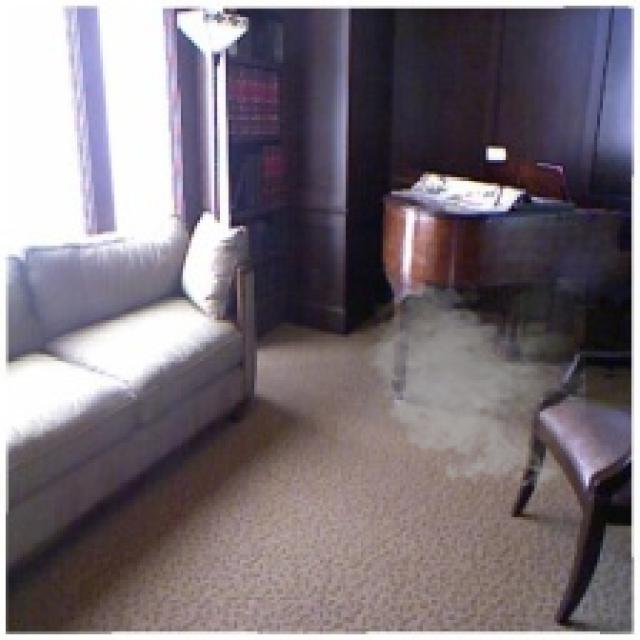smoke: (357, 277, 586, 494)
